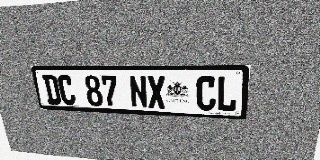7: (100, 75, 120, 107)
8: (84, 75, 103, 106)
C: (196, 76, 217, 111), (57, 75, 77, 105)
D: (42, 75, 62, 105)
L: (216, 76, 238, 112)
N: (129, 75, 148, 108)
X: (147, 75, 166, 109)
